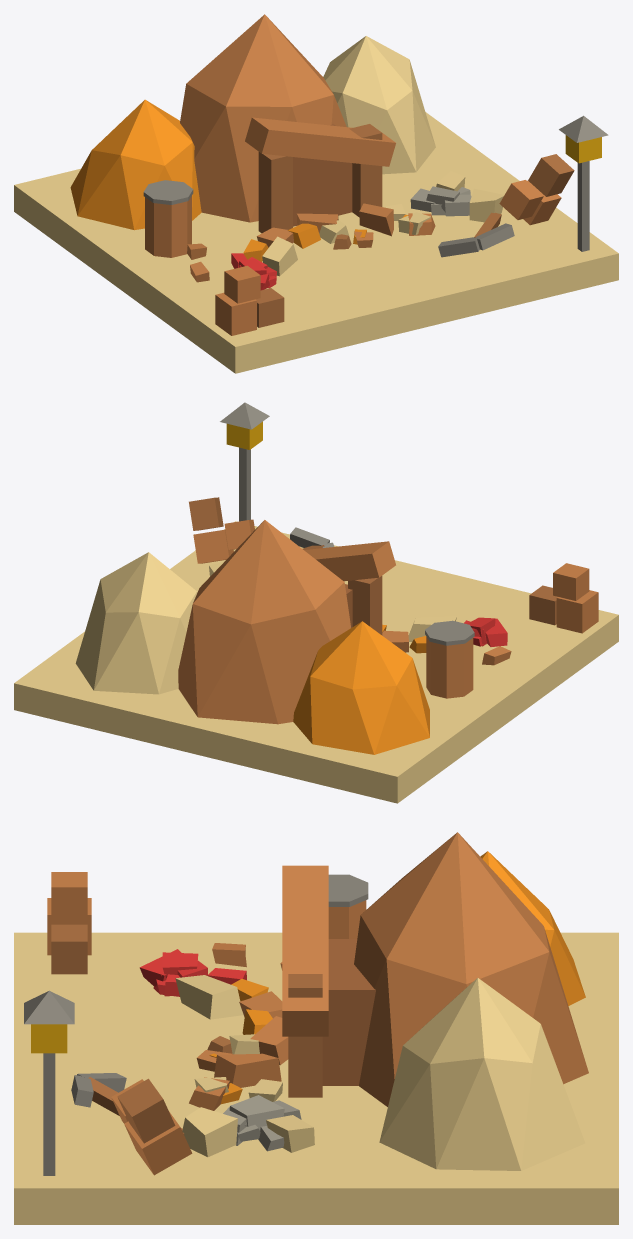
The model's file is mine_t1_v2_dmg1.glb.
The picture shows the model from 3 angles, top to bottom: view 1: azimuth 30°, elevation 25°; view 2: azimuth 150°, elevation 25°; view 3: azimuth 270°, elevation 25°; orthographic projection. The views are drawn at different scales.
Visible parts, largest first — view 1: mine_t1_v2_dmg1; view 2: mine_t1_v2_dmg1; view 3: mine_t1_v2_dmg1.
Boxes of the visible parts, left/top/right/bottom form: mine_t1_v2_dmg1: left=14, top=14, right=618, bottom=373; mine_t1_v2_dmg1: left=14, top=402, right=618, bottom=803; mine_t1_v2_dmg1: left=14, top=832, right=618, bottom=1224.
Size of the model in its own units: 0.6 by 0.29 by 0.6.
Materials: 1 (1 with a texture image).
